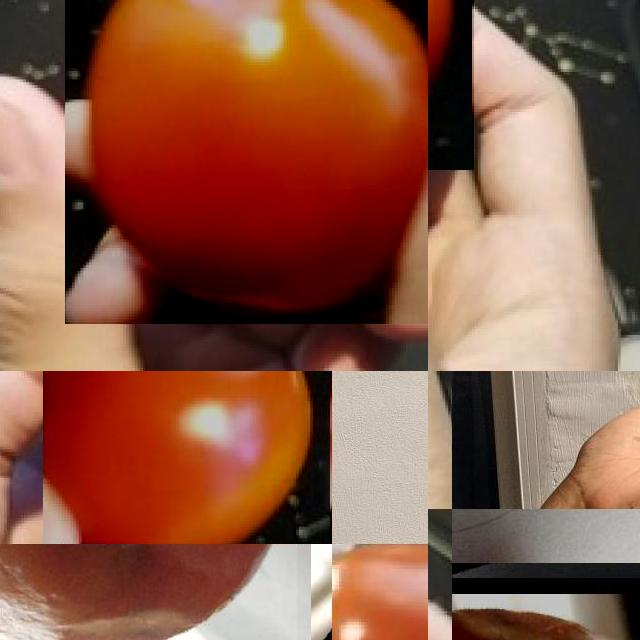Fresh Tomato: (65, 0, 428, 324), (43, 371, 332, 544), (332, 544, 428, 640)
Rotten Tomato: (0, 544, 297, 640), (452, 578, 640, 640)
